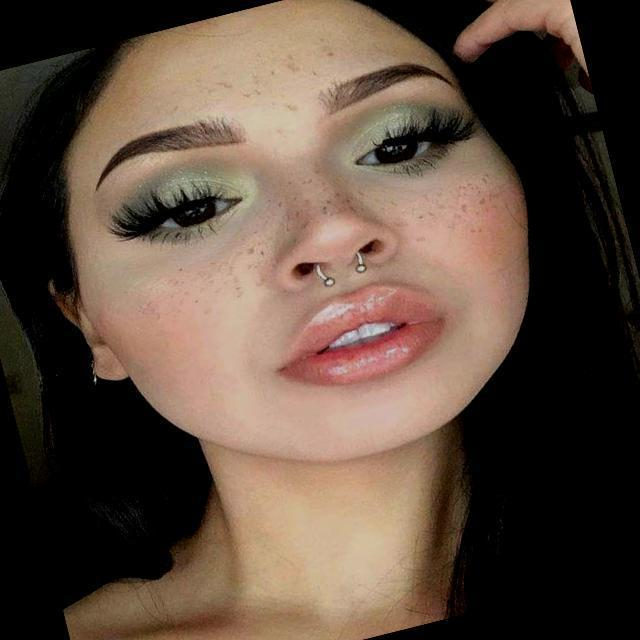freckle: (188, 24, 358, 142), (138, 225, 288, 323), (378, 156, 524, 254), (255, 150, 380, 248)
